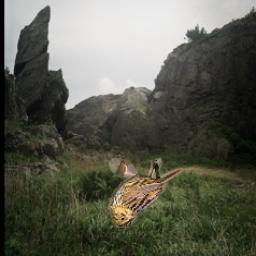Sparrow: (110, 158, 184, 228)
